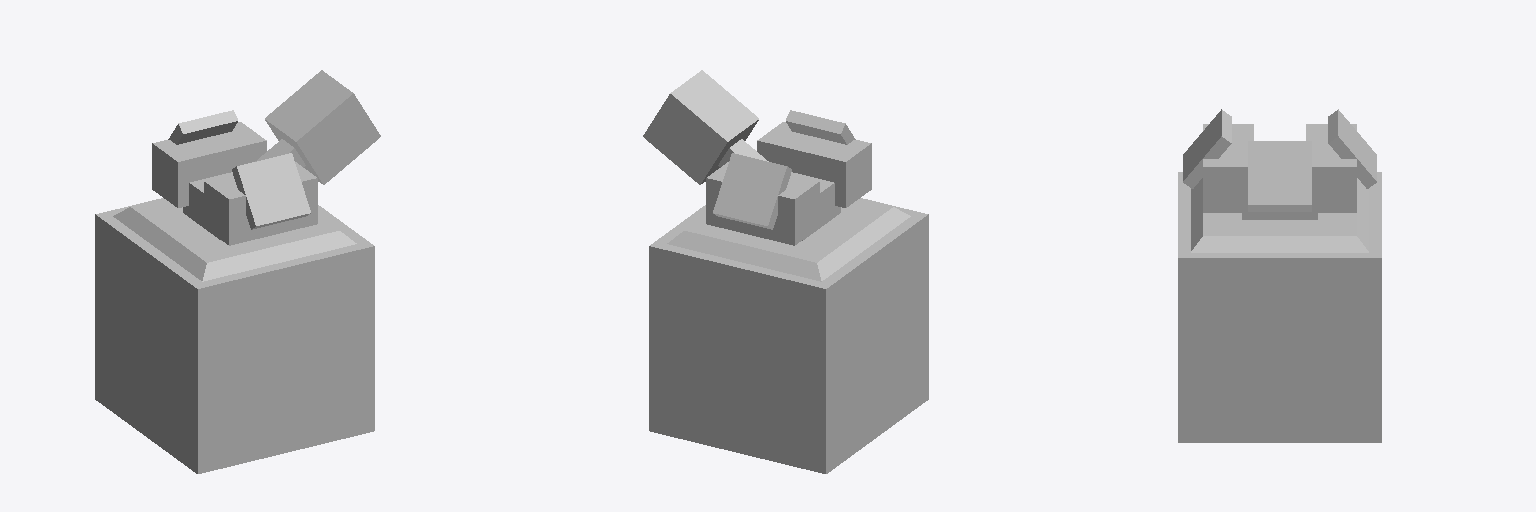
Rendered from sprinkler_high_inv.obj.
3 views of the same model, side by side, from view 1: azimuth 30°, elevation 25°; view 2: azimuth 150°, elevation 25°; view 3: azimuth 270°, elevation 25° (orthographic).
Parts seen in each view (by area): view 1: cube; view 2: cube; view 3: cube.
Boxes of the visible parts, box(x1,y1,x2,y2) form: cube: box(95, 70, 380, 473); cube: box(643, 70, 928, 473); cube: box(1178, 109, 1381, 442).
Bounding box in the file's own units: 1.24 × 1.67 × 1.